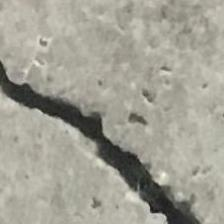Crack: (0, 63, 207, 224)
